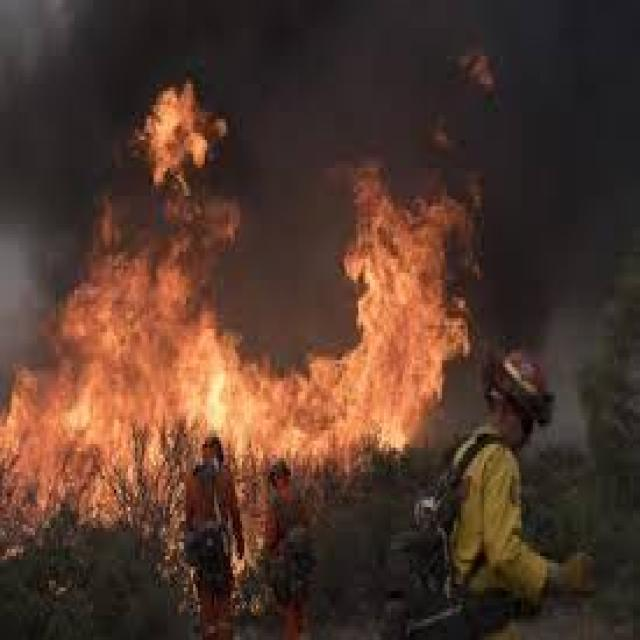Fire: (1, 346, 346, 506), (350, 196, 446, 437), (59, 263, 220, 342), (143, 88, 210, 182)
Smoke: (246, 0, 640, 188), (0, 0, 116, 227)
